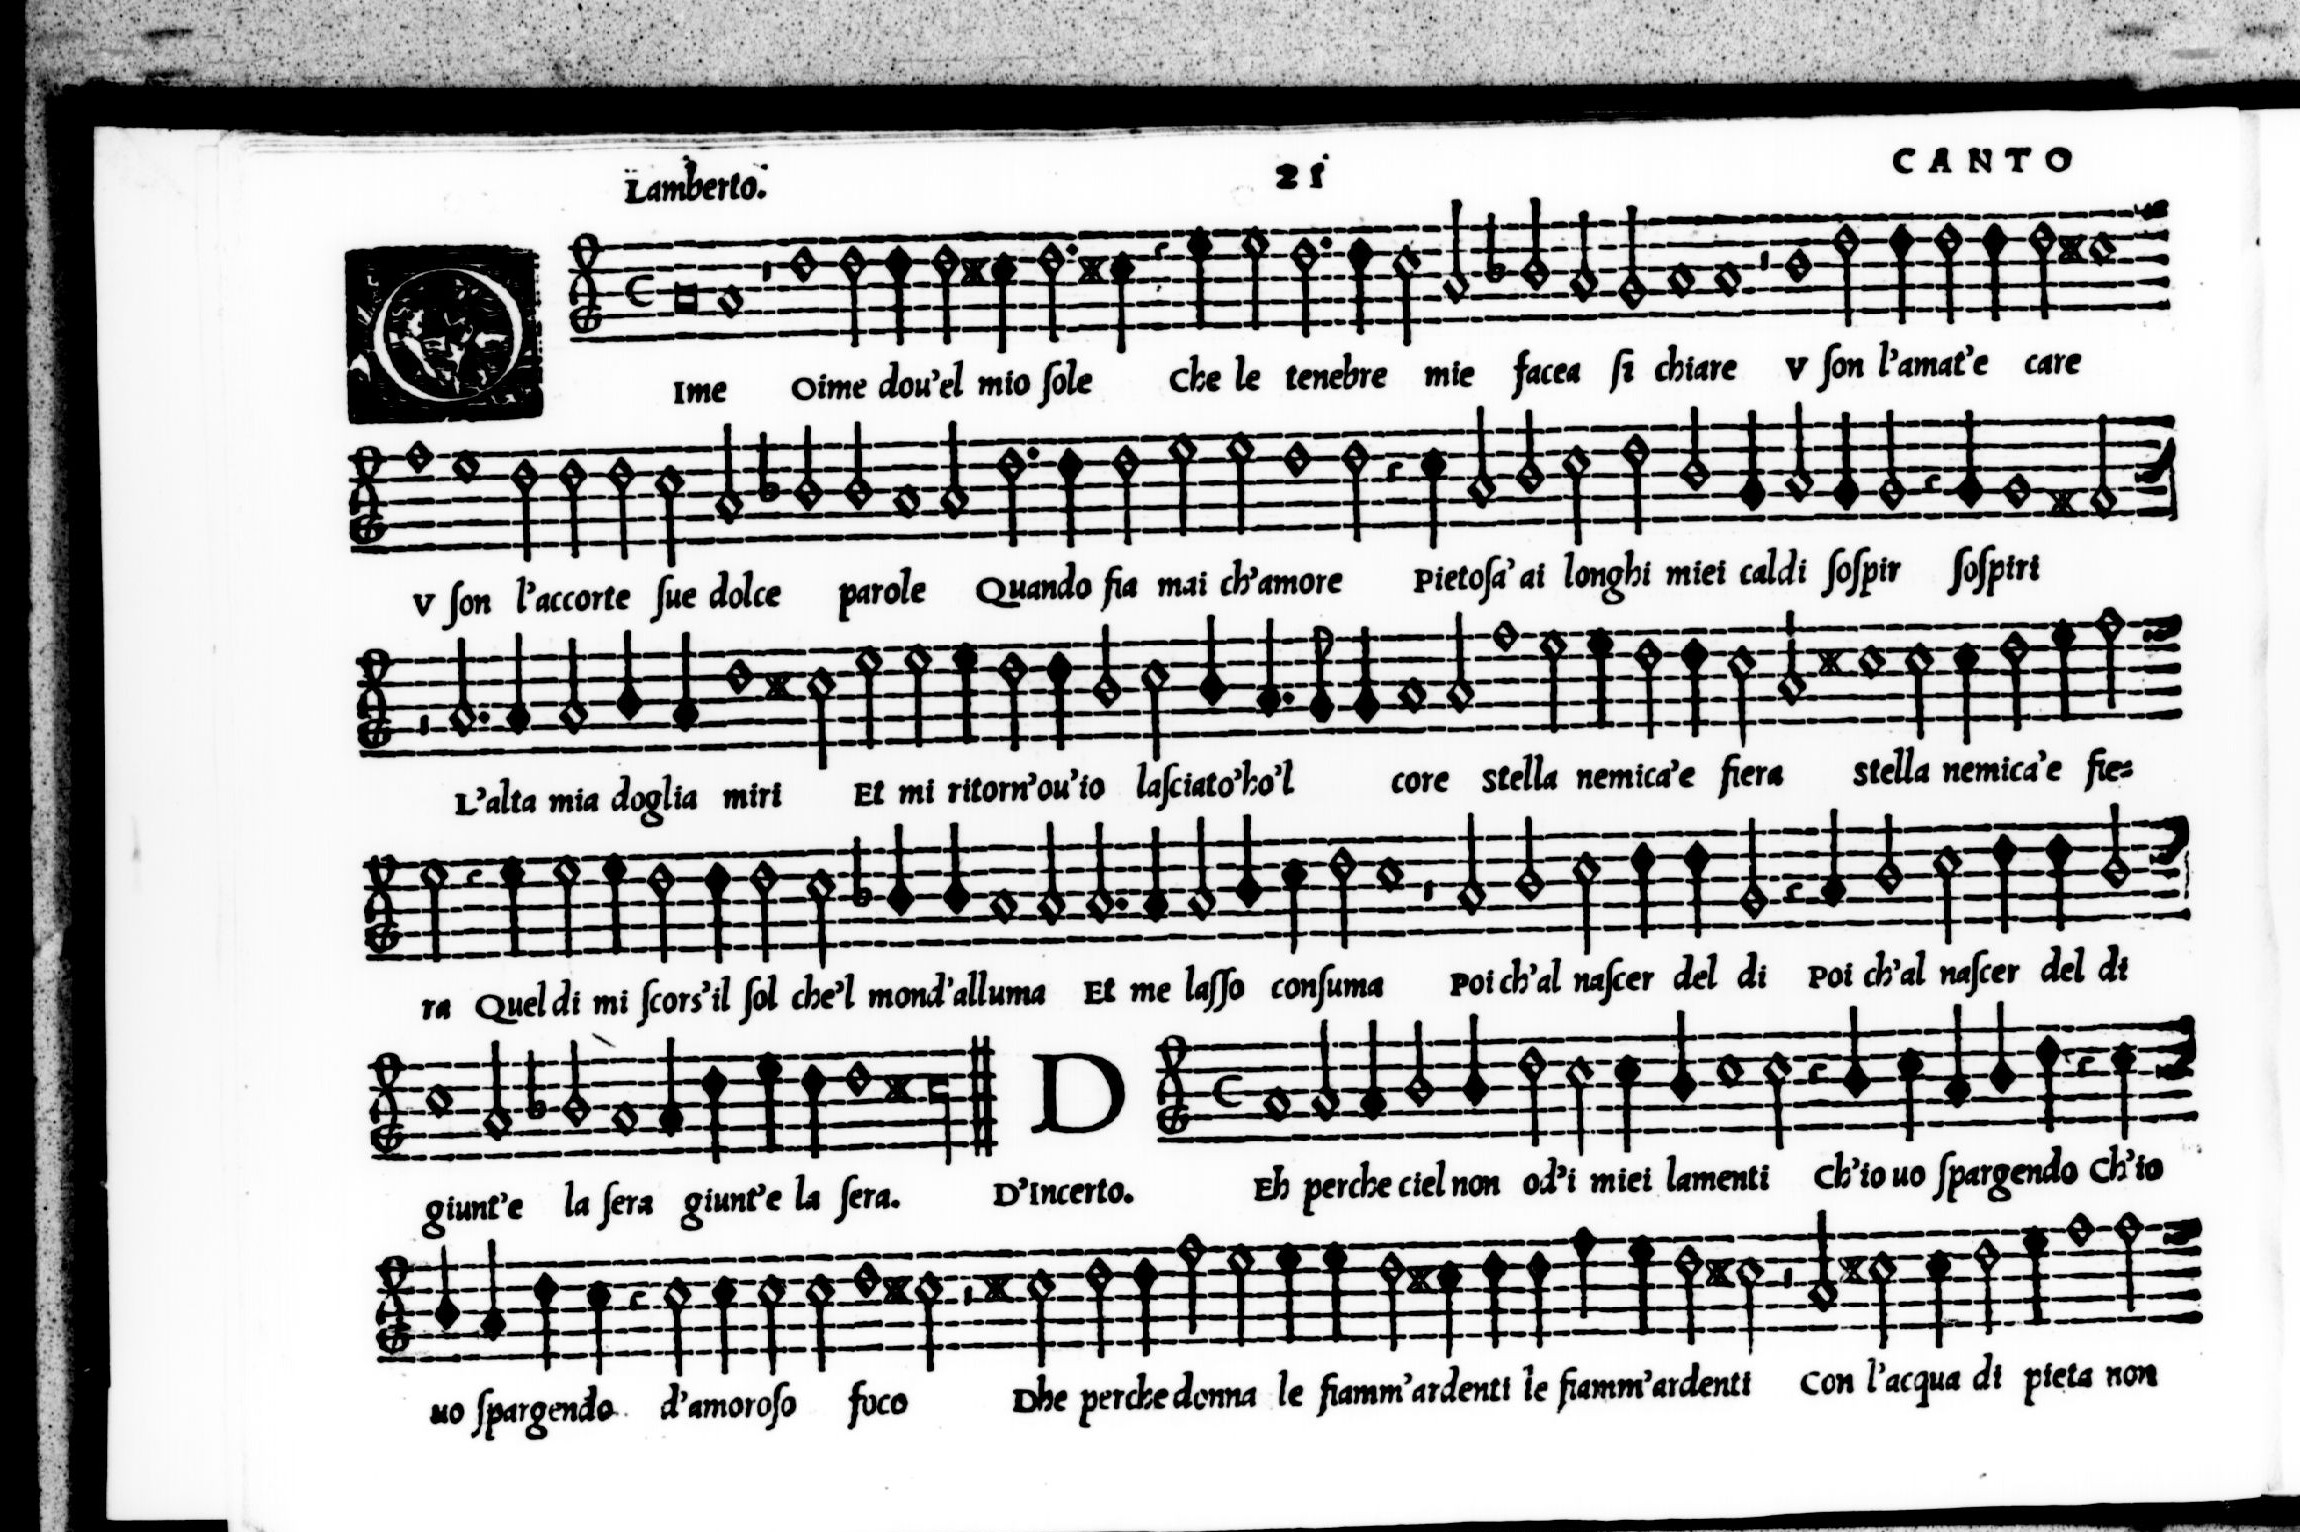custos_4: (2156, 598, 2214, 657)
fusa_9: (1298, 602, 1342, 747)
g clef_9: (345, 628, 398, 757)
minim rest: (409, 634, 439, 769)
minim_3: (2086, 592, 2127, 720)
minim_4: (846, 629, 888, 768), (1534, 617, 1573, 745), (898, 628, 934, 761)
minim_5: (1994, 614, 2035, 739), (1626, 622, 1666, 745), (992, 639, 1029, 761)
minim_6: (800, 650, 840, 785), (1719, 629, 1760, 756), (1130, 638, 1171, 759), (1898, 629, 1936, 752)
minim_7: (1084, 602, 1127, 723)
minim_8: (1438, 598, 1483, 732), (438, 621, 479, 745), (552, 622, 593, 747), (1772, 602, 1809, 722)
point: (1260, 675, 1305, 728), (460, 691, 499, 742)
semibreve_3: (1483, 600, 1529, 669)
semibreve_5: (711, 648, 759, 715)
semibreve_6: (1850, 622, 1895, 696)
semibreve_8: (1389, 657, 1435, 732)
semiminim_4: (941, 626, 982, 752), (1577, 616, 1619, 735), (2043, 604, 2081, 734)
semiminim_5: (1672, 619, 1712, 747), (1036, 634, 1076, 759)
semiminim_6: (1944, 624, 1984, 759)
semiminim_7: (1188, 602, 1235, 723), (605, 616, 650, 739)
semiminim_8: (1243, 602, 1289, 730), (662, 621, 706, 745), (492, 622, 534, 747)
semiminim_9: (1342, 612, 1385, 739)
sharp: (752, 657, 809, 710), (1813, 633, 1859, 669)
